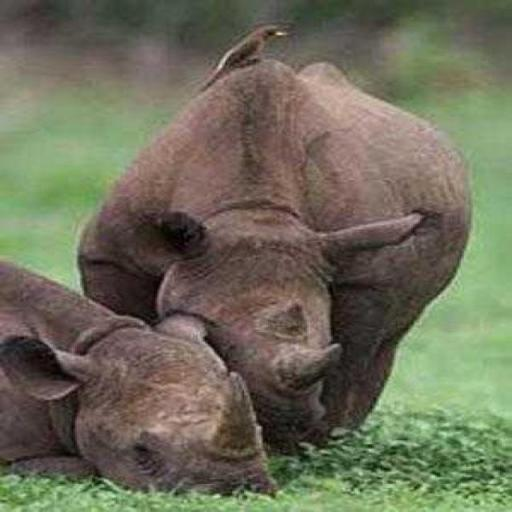Rhino: (74, 19, 472, 456), (0, 256, 278, 497)
